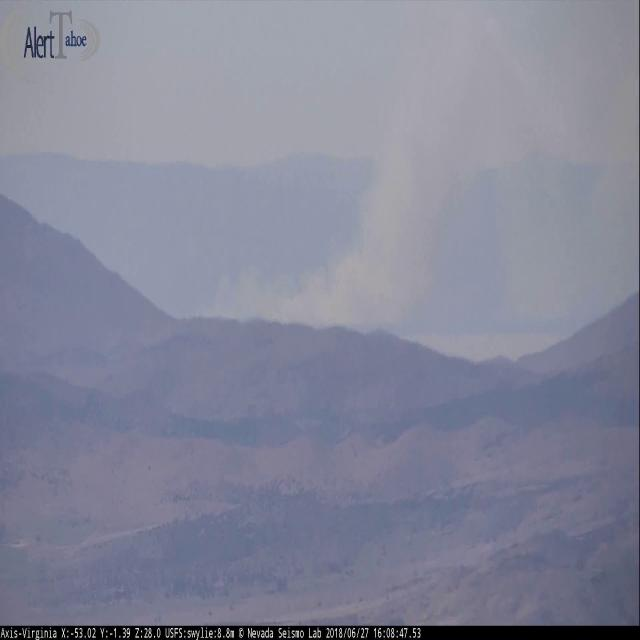smoke: (193, 0, 640, 331)
